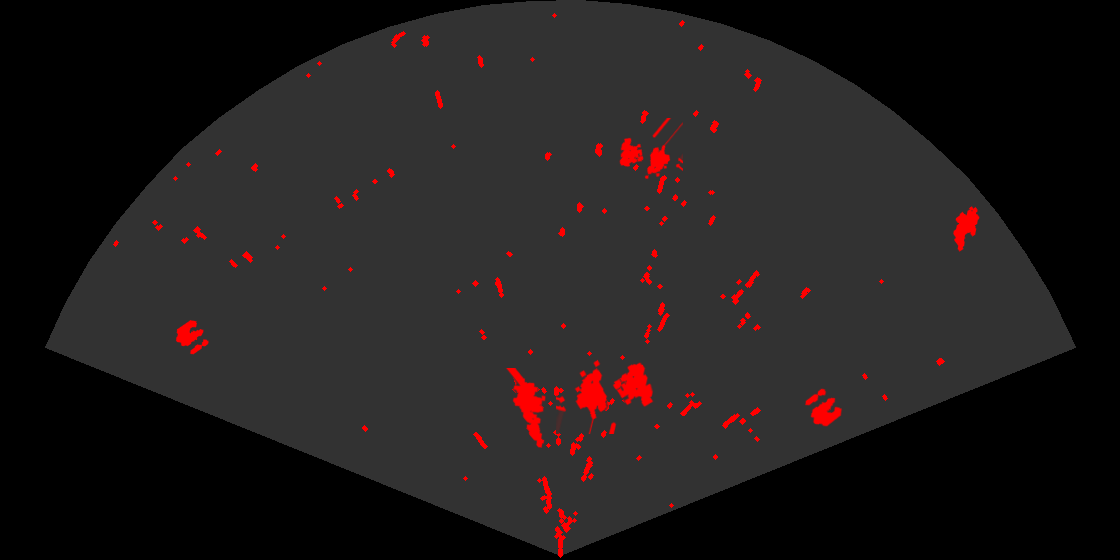AUV: (952, 205, 981, 253)
ball: (803, 387, 844, 428), (174, 318, 210, 356)
cage: (556, 358, 655, 434), (618, 118, 683, 181)
frogman: (504, 368, 547, 449)
